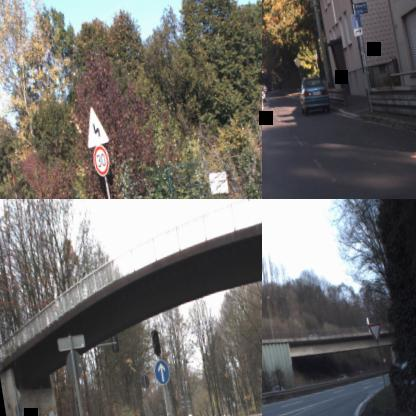bend left: (82, 104, 110, 148)
give way: (366, 321, 384, 345)
go straight: (152, 358, 171, 386)
priority road: (292, 56, 302, 68)
speed limit 30: (90, 142, 110, 177)
